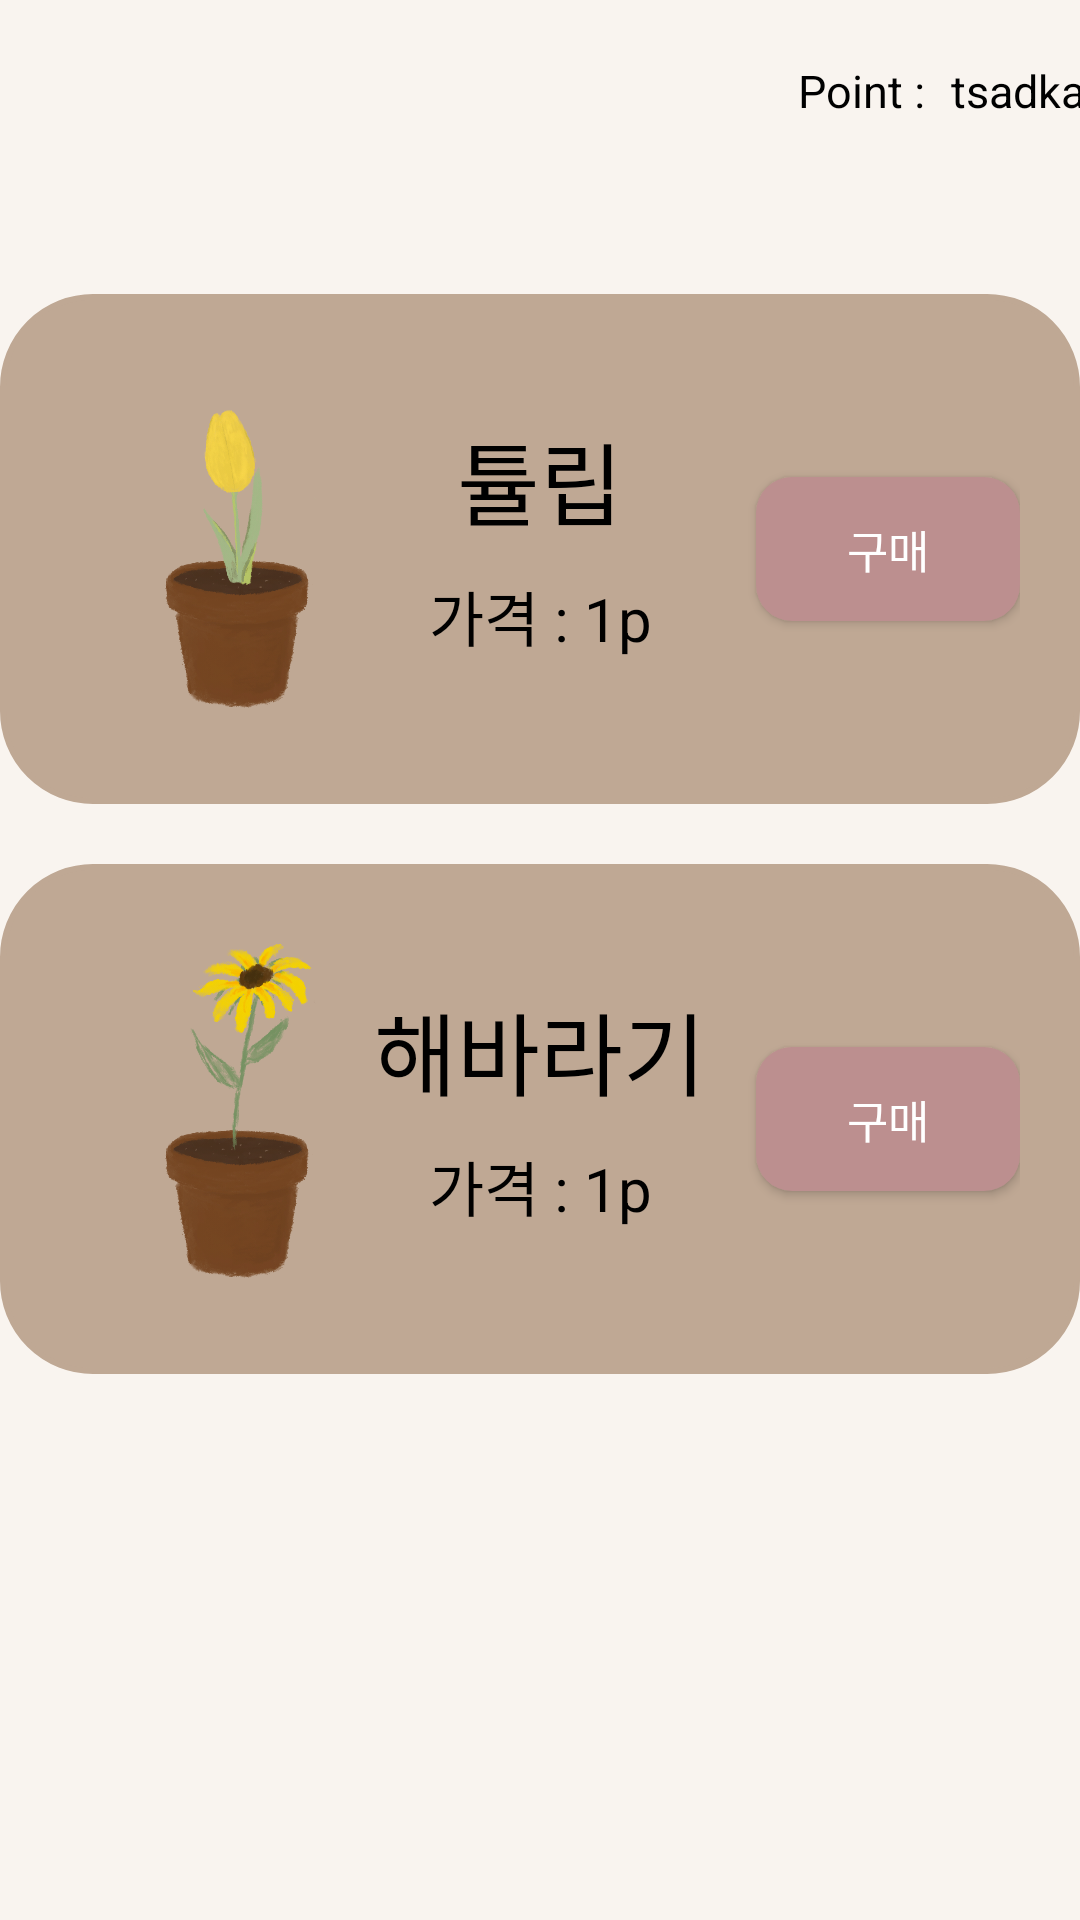

Where icons sit on this 1080x1920 app screen, as (x1, y1, x2, y2):
sunflowerpot: (165, 944, 311, 1278)
tuilpflowerpot: (165, 410, 309, 708)
